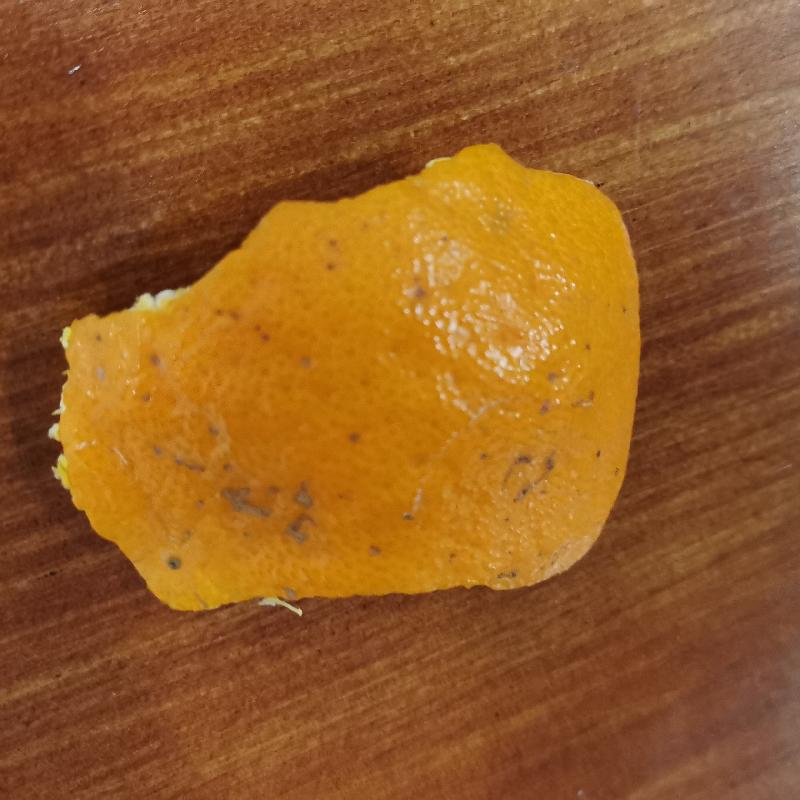orange: (54, 139, 643, 613)
